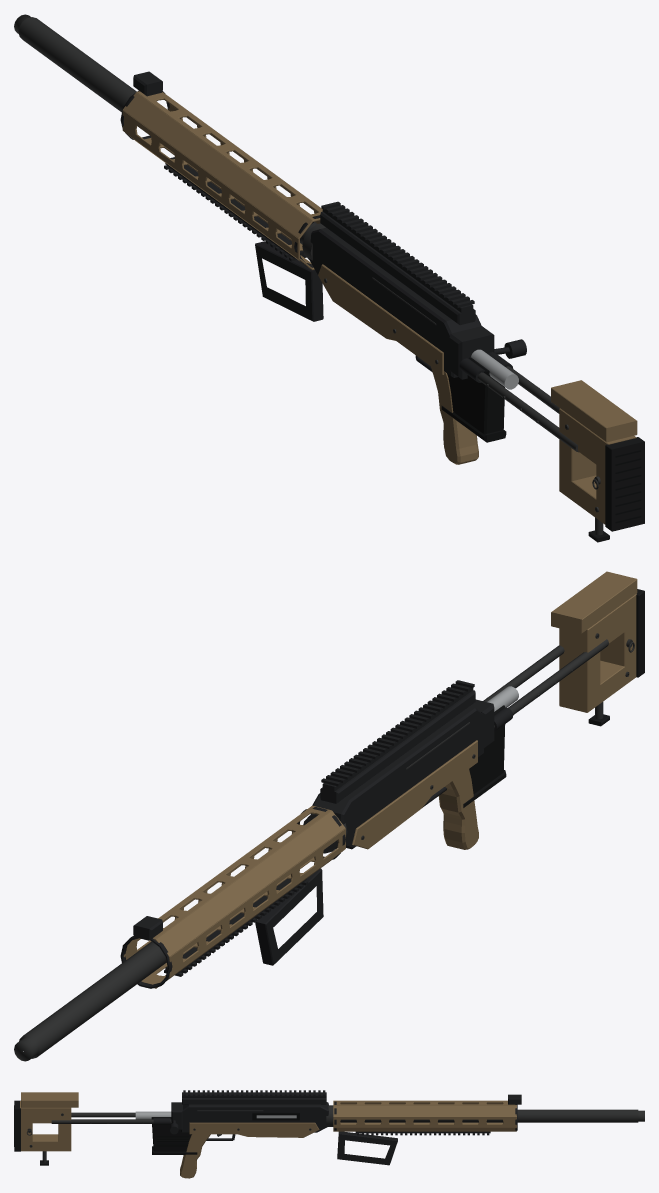
File: weapon-25-CAtyYtIZ.glb
The picture shows the model from 3 angles, top to bottom: view 1: azimuth 30°, elevation 25°; view 2: azimuth 150°, elevation 25°; view 3: azimuth 270°, elevation 25°; orthographic projection. The views are drawn at different scales.
Visible parts, largest first — view 1: salient_weapon_body, salient_weapon_magazine, salient_weapon_bolt; view 2: salient_weapon_body, salient_weapon_magazine; view 3: salient_weapon_body, salient_weapon_magazine, salient_weapon_bolt.
Part boxes in pixels (left/top/right/bottom): salient_weapon_body: left=14, top=14, right=644, bottom=542; salient_weapon_magazine: left=441, top=357, right=506, bottom=442; salient_weapon_bolt: left=471, top=339, right=526, bottom=389; salient_weapon_body: left=14, top=571, right=644, bottom=1061; salient_weapon_magazine: left=463, top=705, right=506, bottom=807; salient_weapon_body: left=14, top=1090, right=644, bottom=1178; salient_weapon_magazine: left=151, top=1117, right=197, bottom=1154; salient_weapon_bolt: left=135, top=1111, right=178, bottom=1134.
Bounding box in the file's own units: 0.091 × 0.1916 × 1.31.
